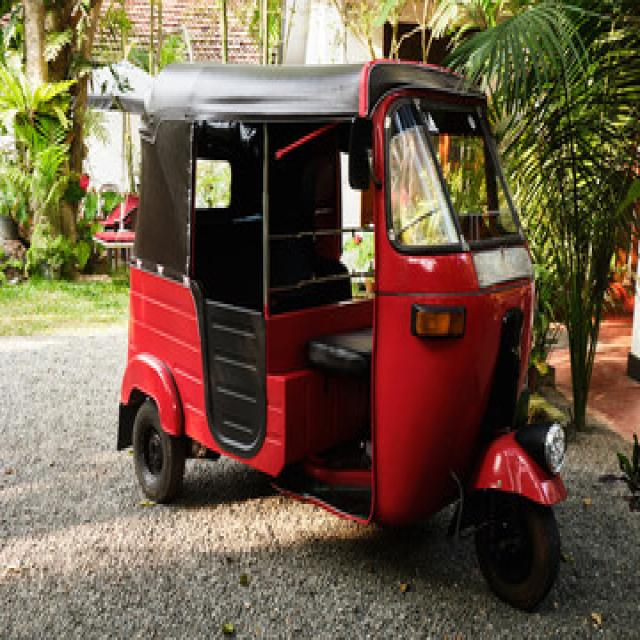three wheeler: (117, 61, 564, 608)
